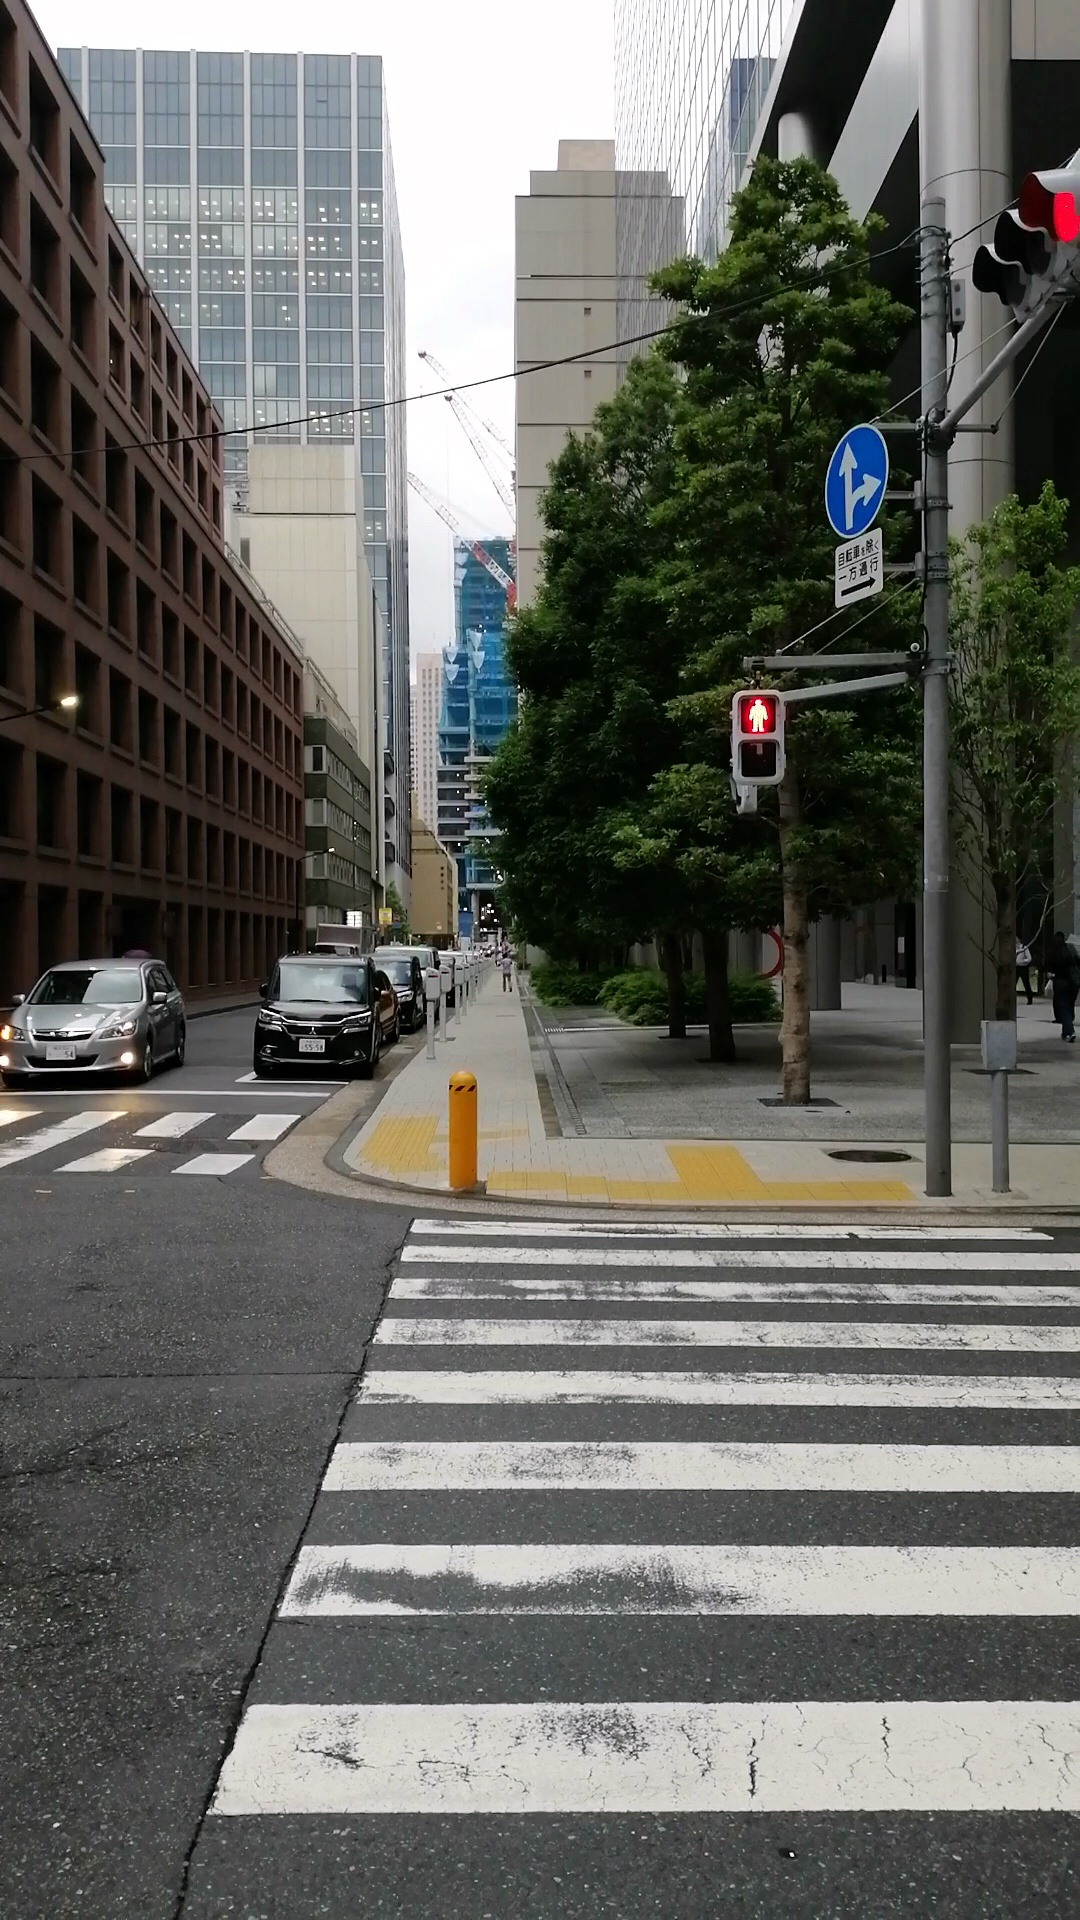red: (729, 687, 785, 786)
